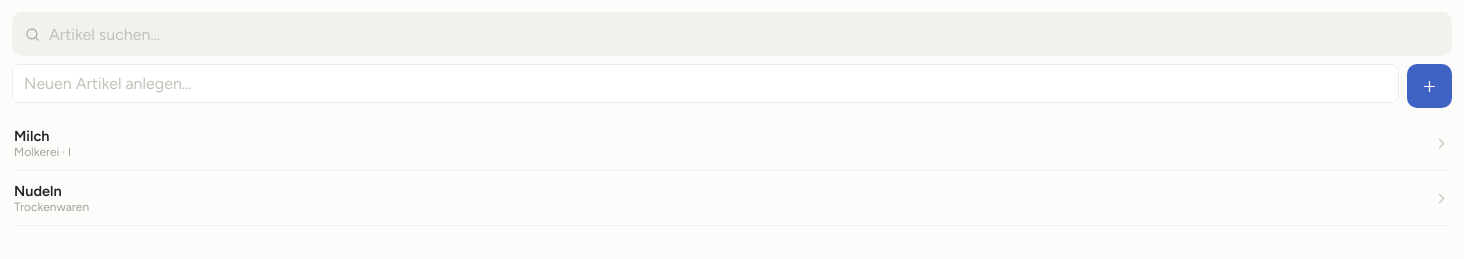
CatalogBrowser › shows the create error next to the create field
In the field labelled "Neuen Artikel anlegen": (706, 84) [12,64,1399,103], type "Milch"
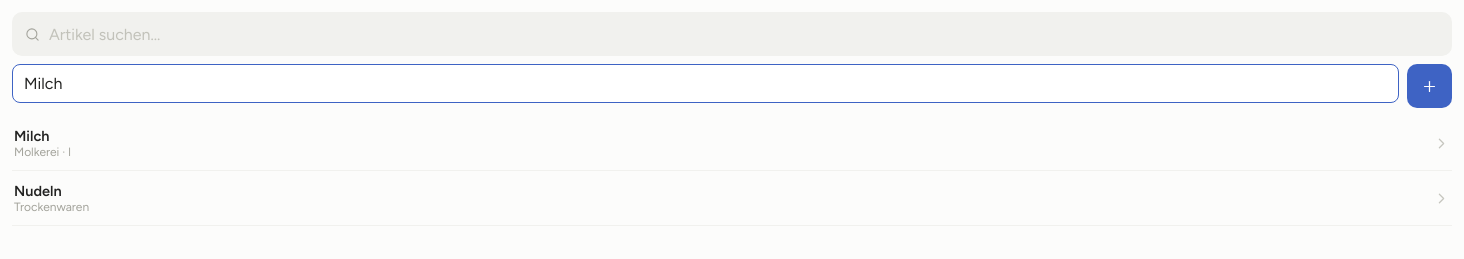
Click the button named "Artikel anlegen": (1430, 86) [1407,64,1452,108]
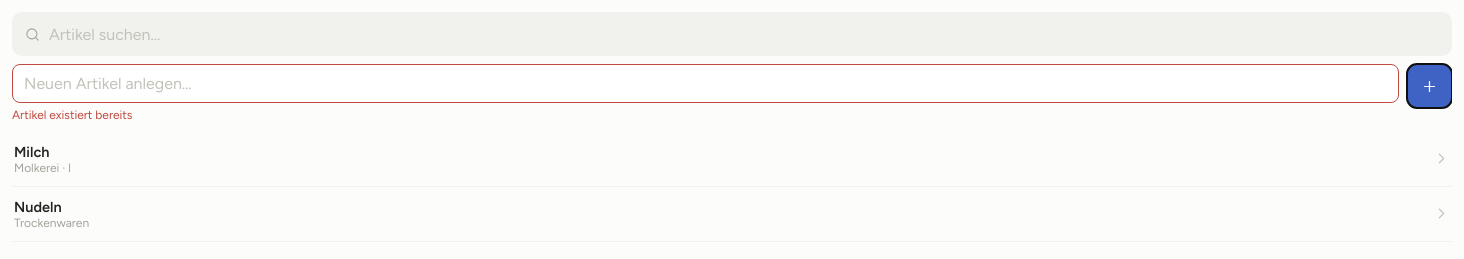
expect the text "Artikel existiert bereits" is shown: met, box [12,108,132,122]
